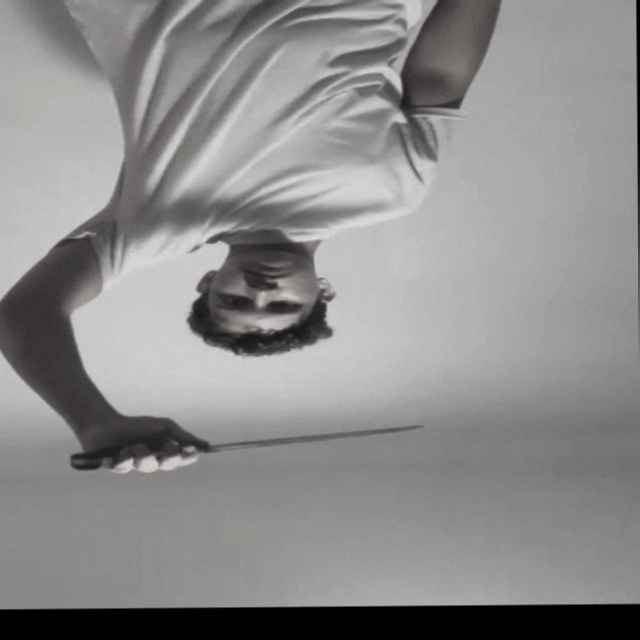Sharp-Object: (197, 423, 425, 454)
